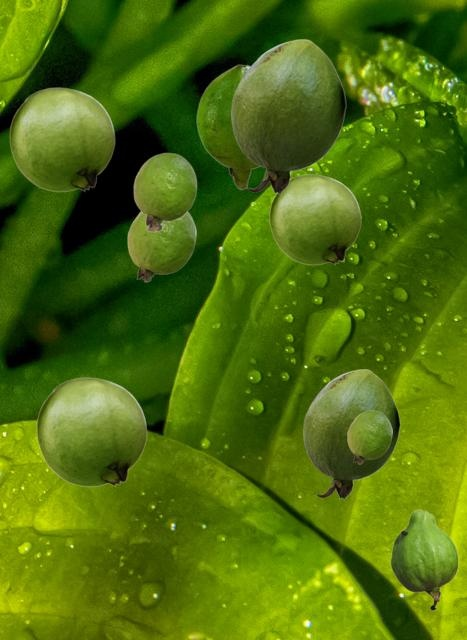guava: (231, 39, 345, 193), (303, 369, 399, 498), (36, 377, 146, 486), (9, 87, 114, 191), (269, 174, 360, 264), (196, 64, 259, 189), (390, 509, 457, 609), (133, 152, 196, 231), (127, 212, 195, 281), (347, 410, 391, 463)
